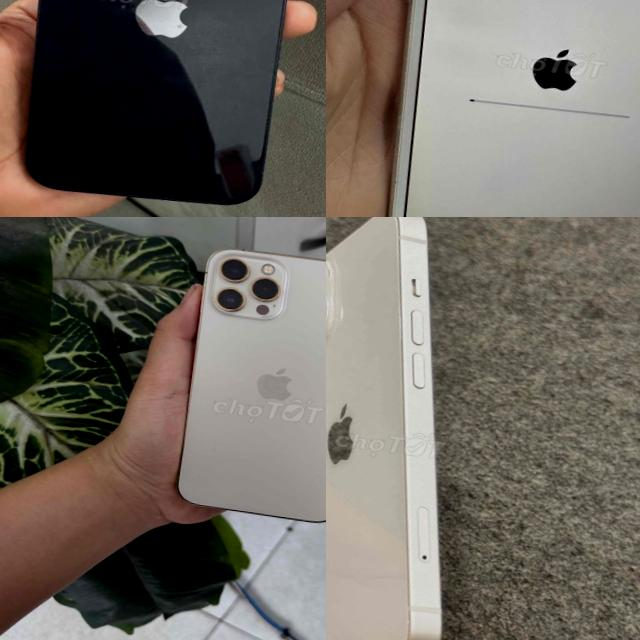gen_12_13: (0, 0, 326, 217)
gen_14: (326, 217, 501, 640)
gen_15: (167, 242, 326, 531)
gen_6: (387, 0, 640, 217)
